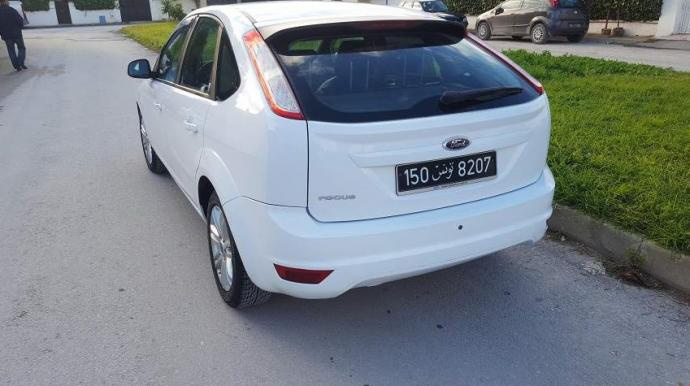LP: (393, 151, 508, 194)
